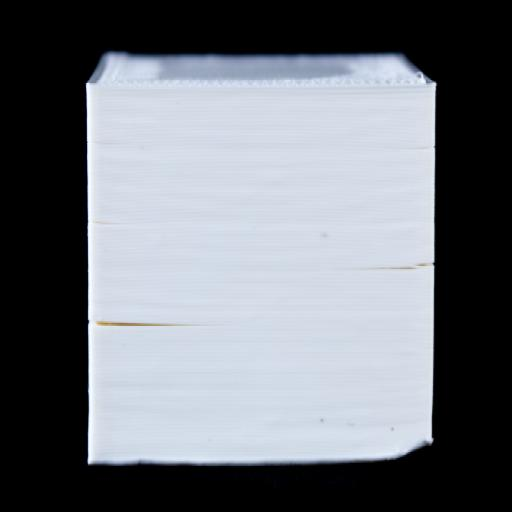cracks: (61, 280, 214, 352), (326, 232, 456, 290)
